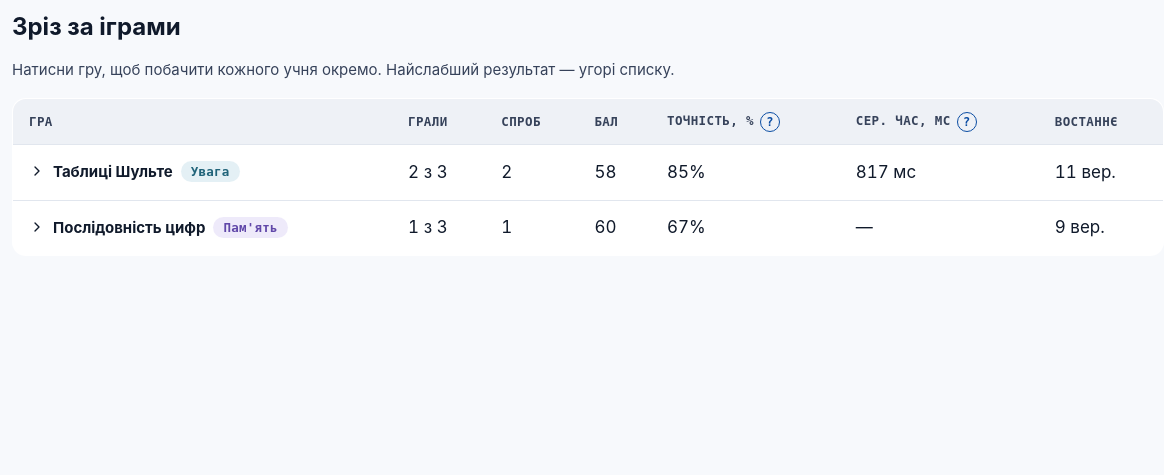
зріз за іграми › показує показники, специфічні для гри, у розгорнутому вигляді
The width and height of the screenshot is (1164, 475).
Click the text "Послідовність цифр".
click(129, 227)  # box [53,218,206,237]
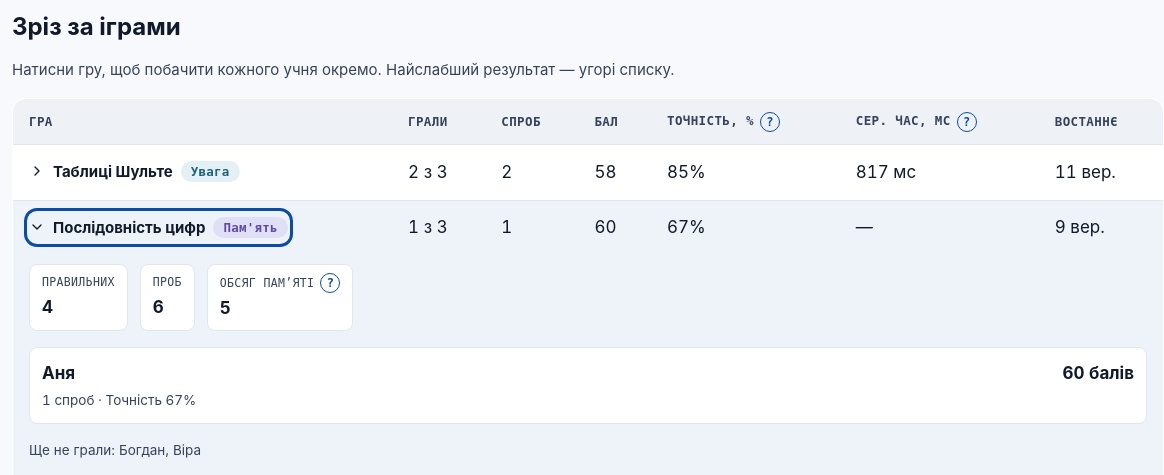
Now the text "Обсяг пам’яті" is shown, box [220,276,314,290]
Now the text "5" is shown, box [220,298,231,318]
